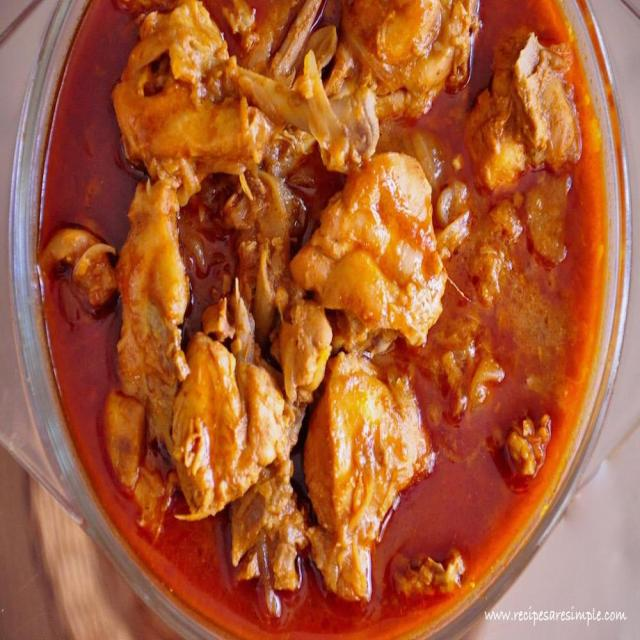chicken: (47, 5, 612, 640)
